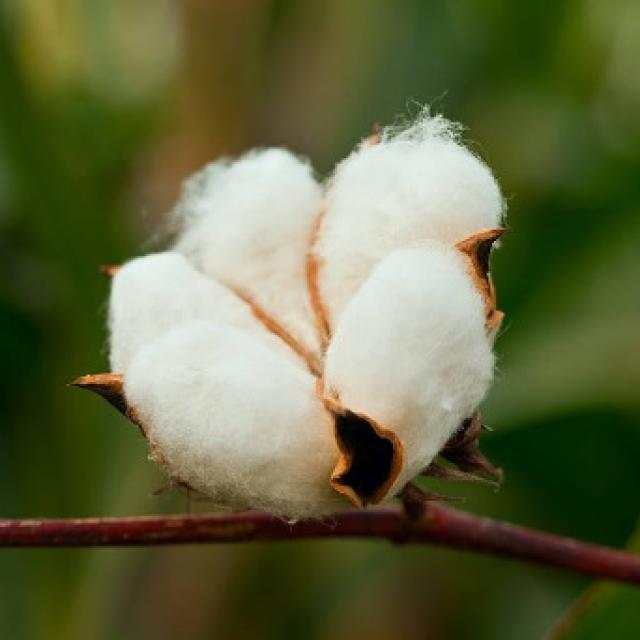Matured Cotton Boll: (100, 118, 508, 516)
